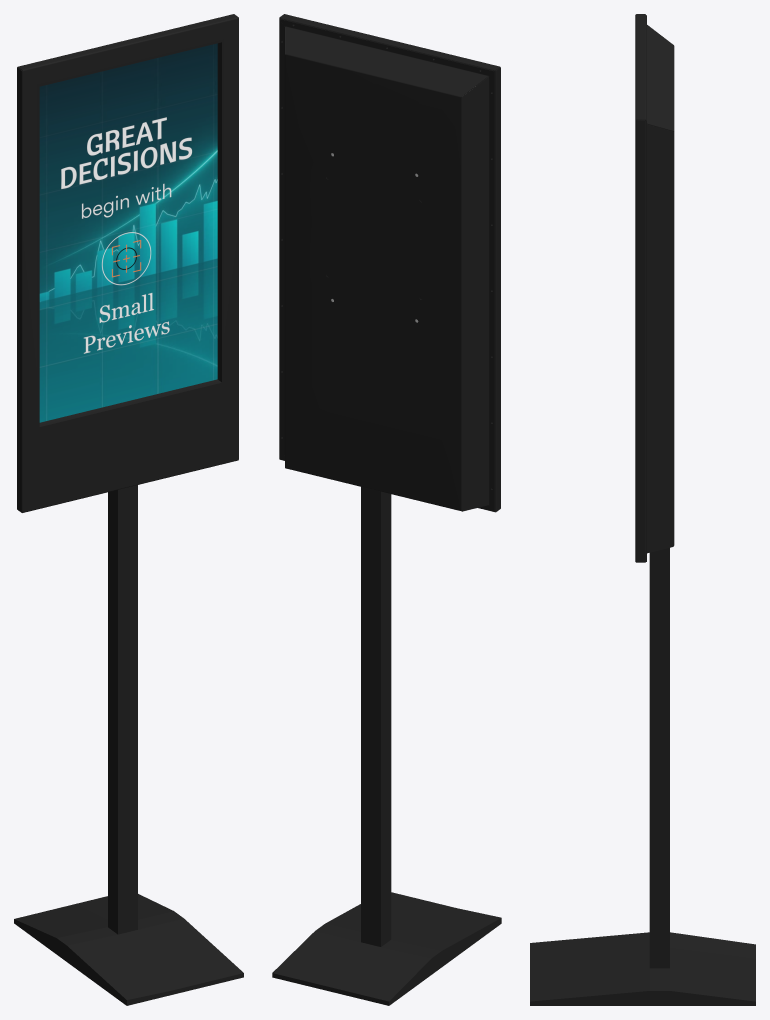
3 views of the same model, side by side, from view 1: azimuth 30°, elevation 25°; view 2: azimuth 150°, elevation 25°; view 3: azimuth 270°, elevation 25° (orthographic).
Visible parts, largest first — view 1: 32 Wall Mount - Assy, 32 Wall Mount - Assy.001; view 2: 32 Wall Mount - Assy; view 3: 32 Wall Mount - Assy.
Boxes of the visible parts, x1,y1,x2,y2 form: 32 Wall Mount - Assy: (14,14,243,1005); 32 Wall Mount - Assy.001: (39,43,217,422); 32 Wall Mount - Assy: (272,14,501,1005); 32 Wall Mount - Assy: (530,14,755,1005).
Size of the model in its own units: 0.465 by 1.86 by 0.4177.
3 materials, 1 textured.
